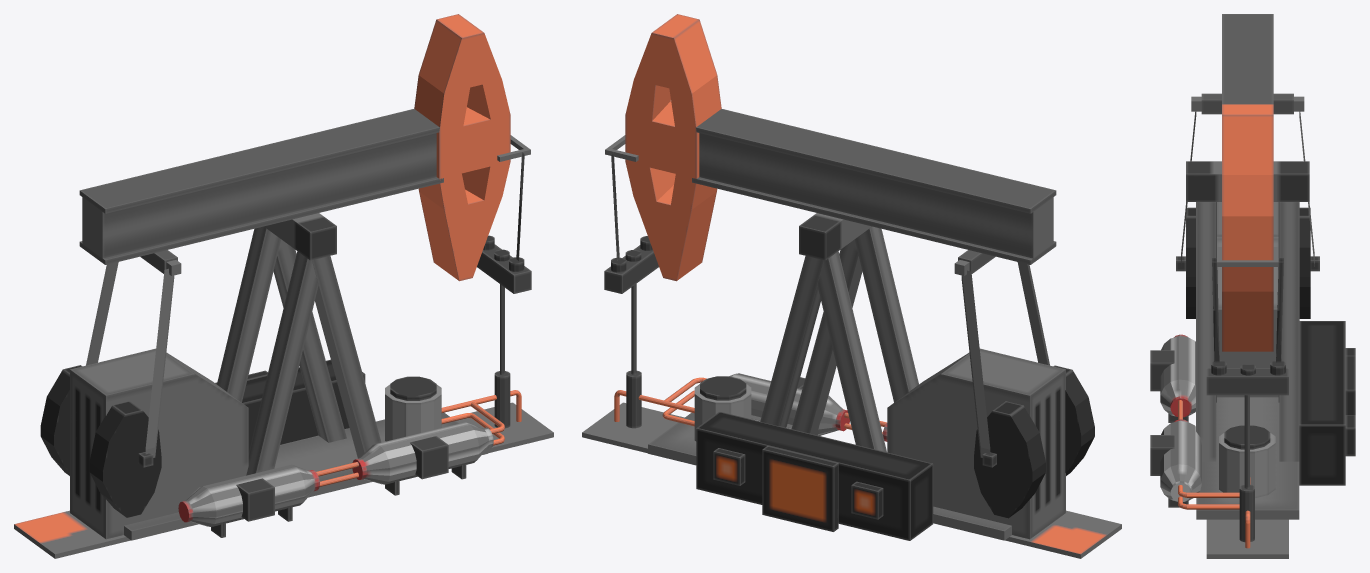
Rendered from pumpjack.obj.
3 views of the same model, side by side, from view 1: azimuth 30°, elevation 25°; view 2: azimuth 150°, elevation 25°; view 3: azimuth 270°, elevation 25° (orthographic).
Visible parts, largest first — view 1: cylinder; view 2: cylinder; view 3: cylinder.
Part boxes in pixels (x1,y1,x2,y2): cylinder: [14, 14, 553, 558]; cylinder: [582, 14, 1121, 558]; cylinder: [1150, 14, 1355, 558].
Size of the model in its own units: 7 by 5.56 by 2.5.
